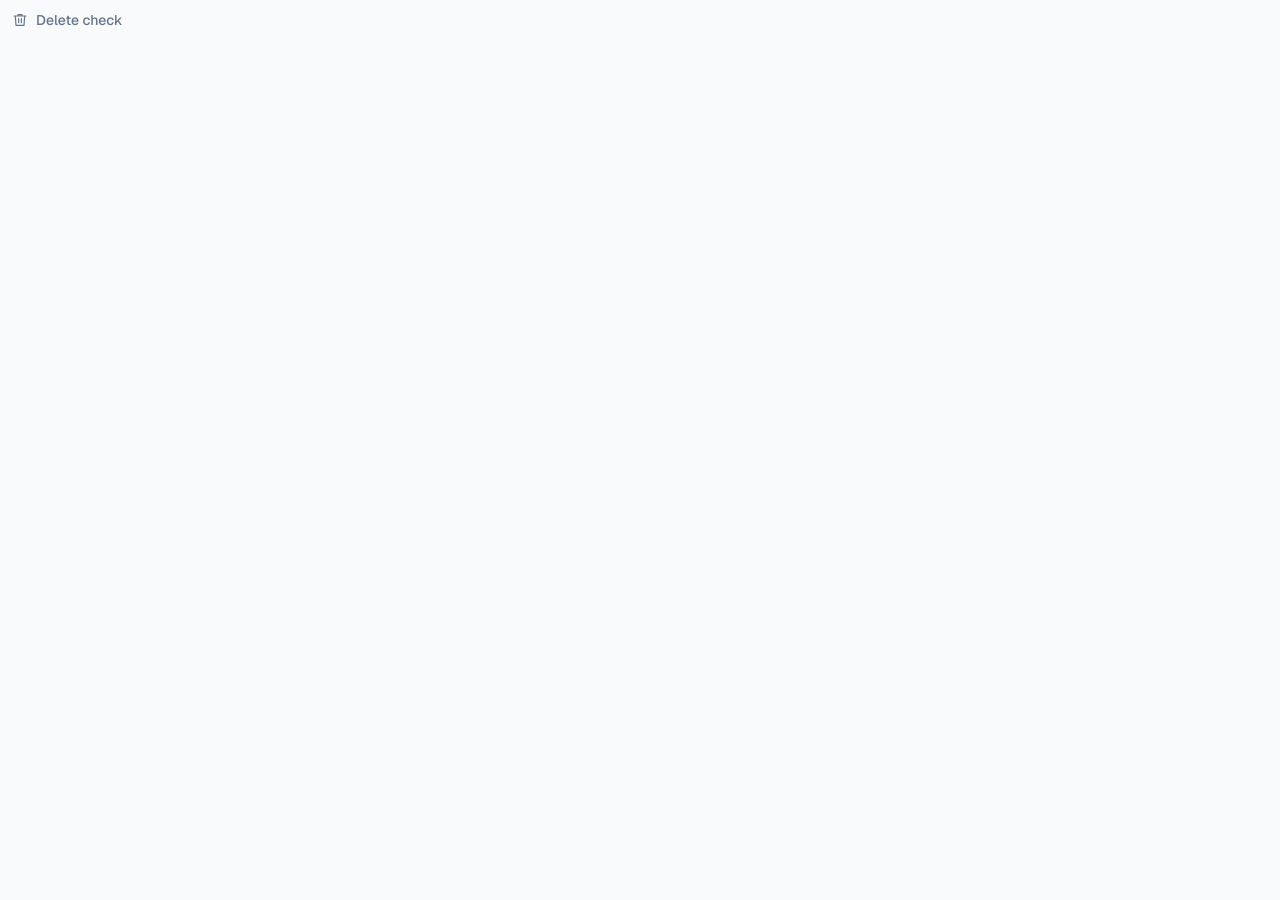
Test: keeps the dialog open for safe unavailable feedback
Click the button "Delete check" at (67, 20), box [0, 0, 134, 40]
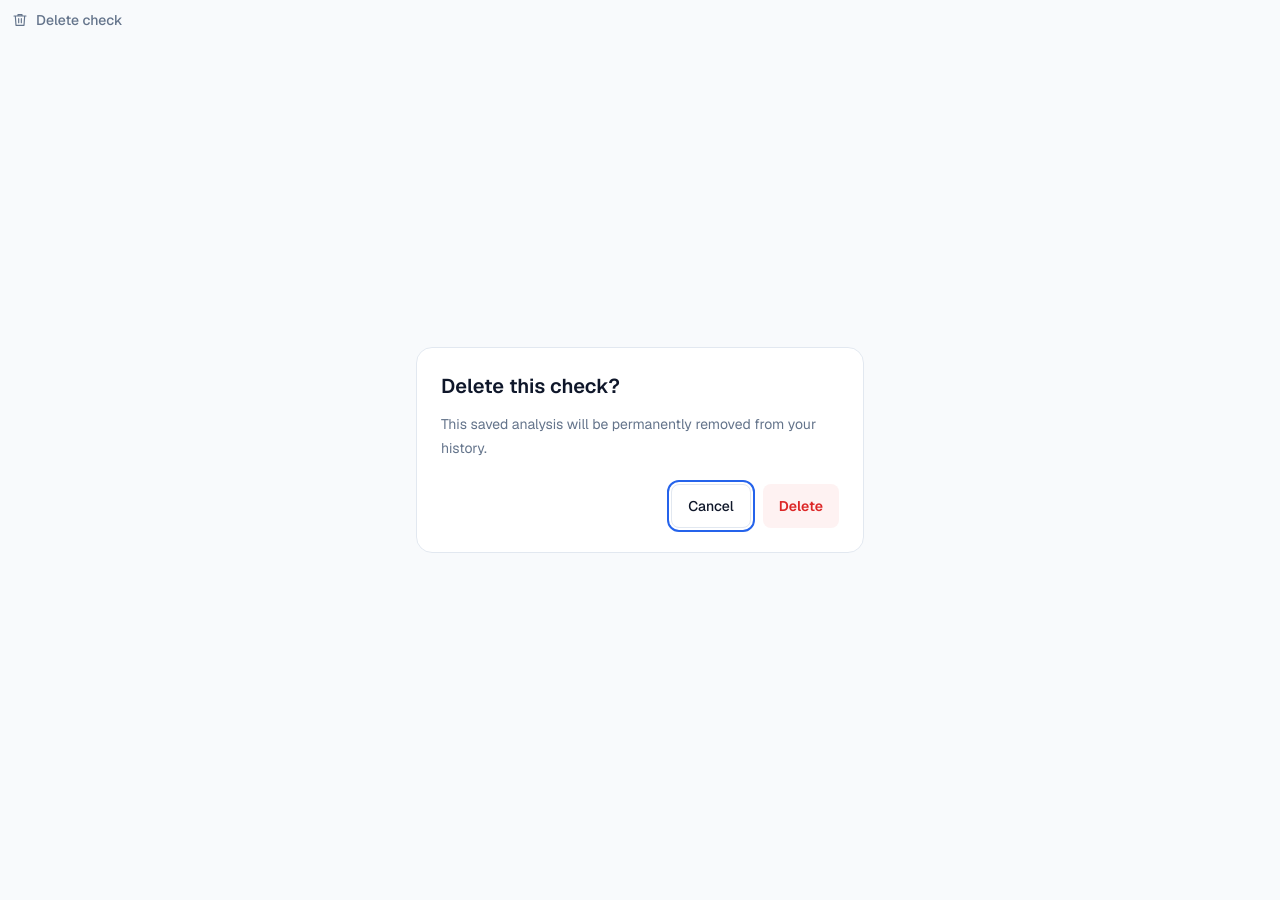
Click the button "Delete" at (801, 506), box [763, 484, 839, 528]
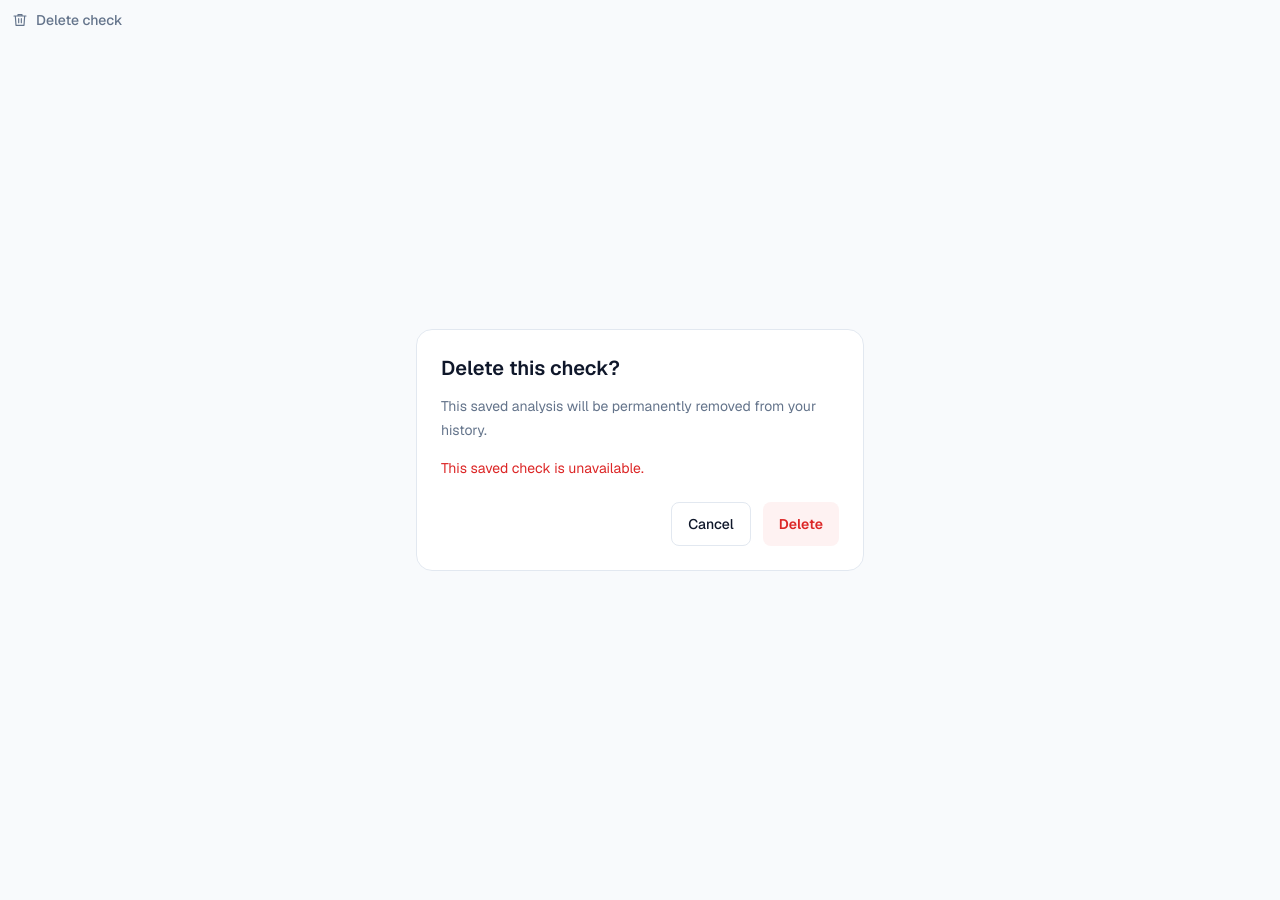
expect the message "This saved check is unavailable." is shown: met, box [441, 459, 644, 477]
